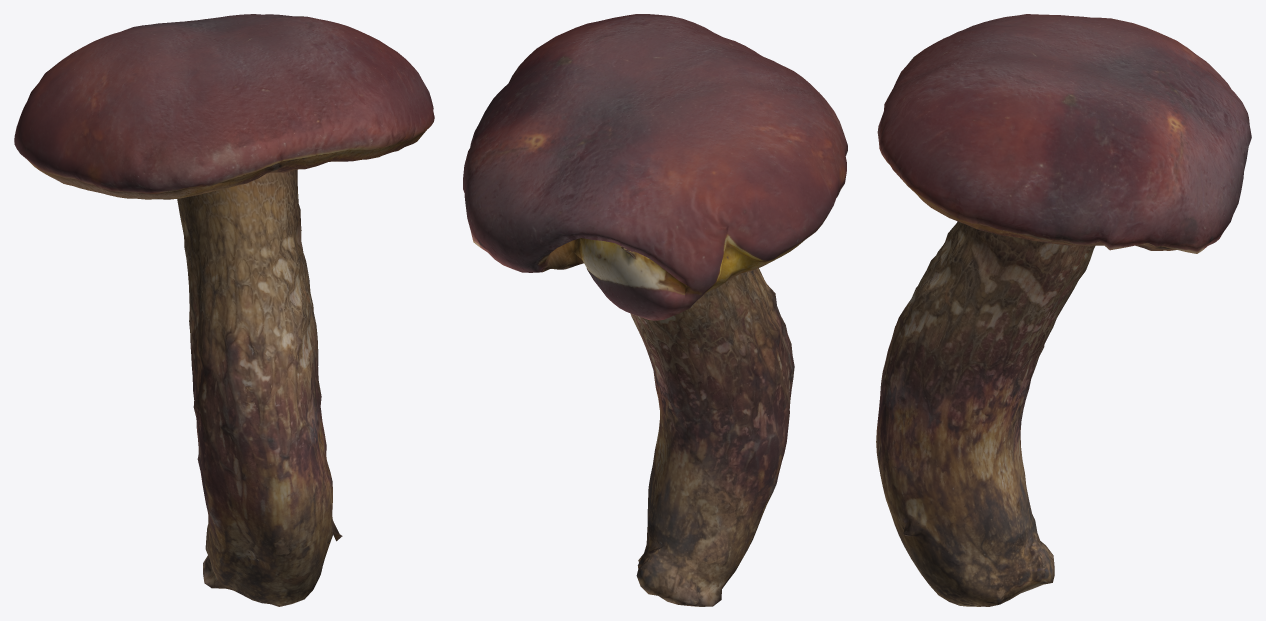
The model's file is BoletusWeb.glb.
The picture shows the model from 3 angles, left to right: view 1: azimuth 30°, elevation 25°; view 2: azimuth 150°, elevation 25°; view 3: azimuth 270°, elevation 25°; orthographic projection. The views are drawn at different scales.
Visible parts, largest first — view 1: Boletus_LR_scaled; view 2: Boletus_LR_scaled; view 3: Boletus_LR_scaled.
Part boxes in pixels (x1=…): Boletus_LR_scaled: x1=14, y1=14, x2=434, y2=606; Boletus_LR_scaled: x1=463, y1=14, x2=847, y2=606; Boletus_LR_scaled: x1=876, y1=14, x2=1251, y2=606.
Size of the model in its own units: 0.0529 by 0.0798 by 0.049.
Materials: 1 (1 with a texture image).
